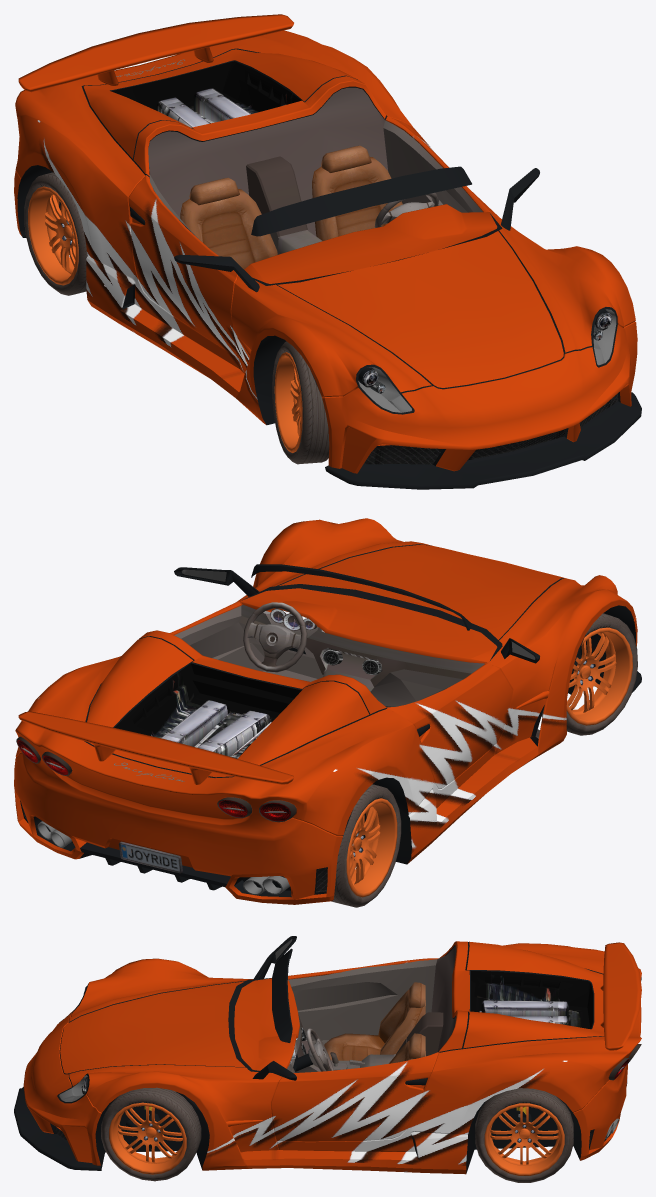
Rendered from car.glb.
The picture shows the model from 3 angles, top to bottom: view 1: azimuth 30°, elevation 25°; view 2: azimuth 150°, elevation 25°; view 3: azimuth 270°, elevation 25°; orthographic projection. The views are drawn at different scales.
Parts seen in each view (by area): view 1: node_id146, node_id144, node_id148, node_id138, node_id72, node_id154, node_id48, node_id128, node_id44, node_id114, node_id166, node_id110 (+8 smaller); view 2: node_id146, node_id144, node_id154, node_id148, node_id72, node_id110, node_id128, node_id140, node_id138, node_id52, node_id126, node_id54 (+5 smaller); view 3: node_id146, node_id144, node_id148, node_id154, node_id72, node_id135, node_id117, node_id48, node_id121, node_id138, node_id133, node_id131 (+7 smaller).
Boxes of the visible parts, x1,y1,x2,y2 form: node_id146: (14, 30, 637, 473); node_id144: (148, 87, 482, 294); node_id148: (17, 48, 620, 466); node_id138: (149, 177, 641, 489); node_id72: (18, 14, 293, 92); node_id154: (111, 61, 301, 127); node_id48: (180, 189, 277, 269); node_id128: (28, 186, 78, 285); node_id44: (312, 157, 402, 240); node_id114: (281, 341, 329, 464); node_id166: (149, 167, 618, 464); node_id110: (274, 352, 302, 452); node_id146: (14, 518, 637, 904); node_id144: (174, 604, 484, 760); node_id154: (114, 663, 301, 758); node_id148: (20, 544, 635, 897); node_id72: (18, 711, 294, 784); node_id110: (566, 627, 632, 725); node_id128: (346, 798, 397, 897); node_id140: (16, 736, 296, 822); node_id138: (80, 671, 641, 890); node_id52: (247, 622, 300, 666); node_id126: (331, 784, 395, 907); node_id54: (243, 602, 307, 672); node_id146: (23, 941, 641, 1174); node_id144: (287, 946, 456, 1116); node_id148: (50, 942, 610, 1173); node_id154: (471, 971, 593, 1028); node_id72: (600, 942, 641, 1050); node_id135: (484, 1103, 564, 1175); node_id117: (109, 1102, 186, 1174); node_id48: (324, 989, 425, 1060); node_id121: (101, 1087, 201, 1181); node_id138: (14, 1087, 101, 1170); node_id133: (475, 1088, 573, 1182); node_id131: (479, 1099, 569, 1180).
Bounding box in the file's own units: 0.512 × 0.2439 × 0.9632.
62 materials, 62 textured.
